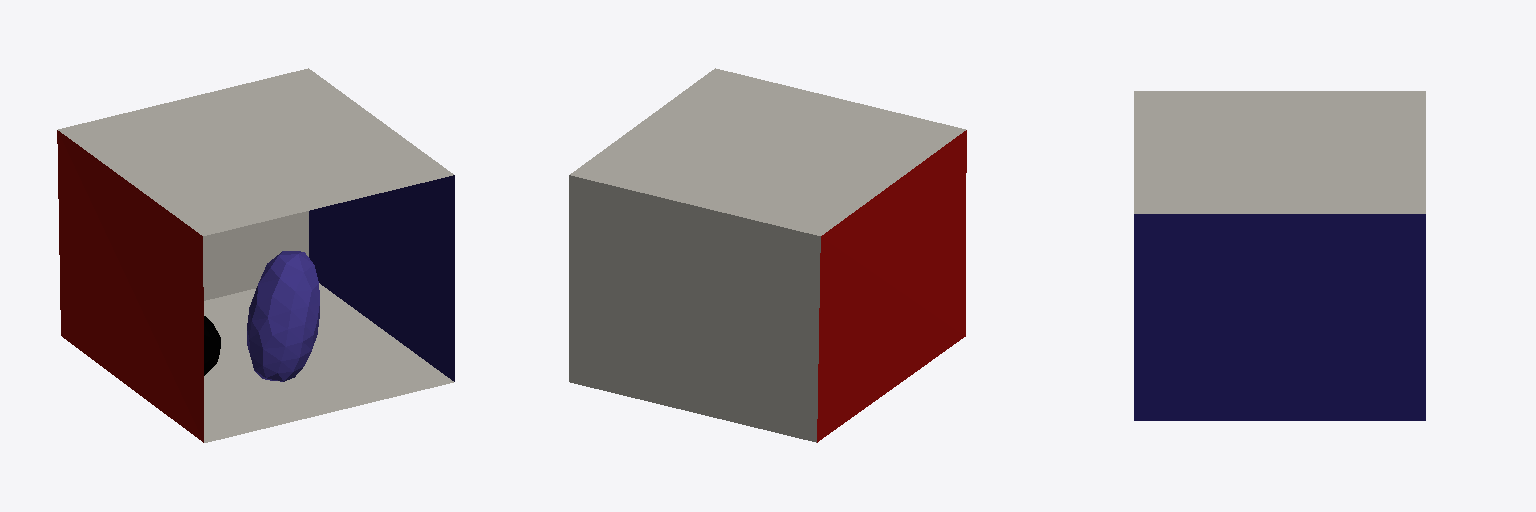
Rendered from CornellBox-Ellipsoid-380.obj.
3 renders of one model, left to right at view 1: azimuth 30°, elevation 25°; view 2: azimuth 150°, elevation 25°; view 3: azimuth 270°, elevation 25°, orthographic.
Visible parts, largest first — view 1: ceiling, leftWall, rightWall, floor, leftSphere, backWall, rightSphere; view 2: backWall, ceiling, leftWall; view 3: rightWall, ceiling.
Boxes of the visible parts, box(x1,y1,x2,y2) form: ceiling: box(58, 68, 453, 235); leftWall: box(57, 130, 203, 442); rightWall: box(309, 175, 454, 381); floor: box(204, 283, 453, 442); leftSphere: box(247, 251, 319, 381); backWall: box(203, 211, 308, 300); rightSphere: box(204, 316, 220, 375); backWall: box(569, 175, 820, 442); ceiling: box(570, 68, 965, 235); leftWall: box(817, 130, 966, 442); rightWall: box(1134, 214, 1425, 420); ceiling: box(1134, 91, 1425, 213).
Size of the model in its own units: 2.02 by 1.59 by 2.03.